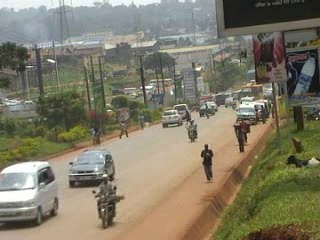Car: (0, 160, 61, 226), (68, 144, 116, 188), (160, 106, 184, 129), (197, 100, 214, 118), (205, 100, 219, 112), (223, 95, 235, 107)
Motorcycle: (91, 174, 125, 229), (183, 117, 200, 144), (229, 95, 238, 111)
